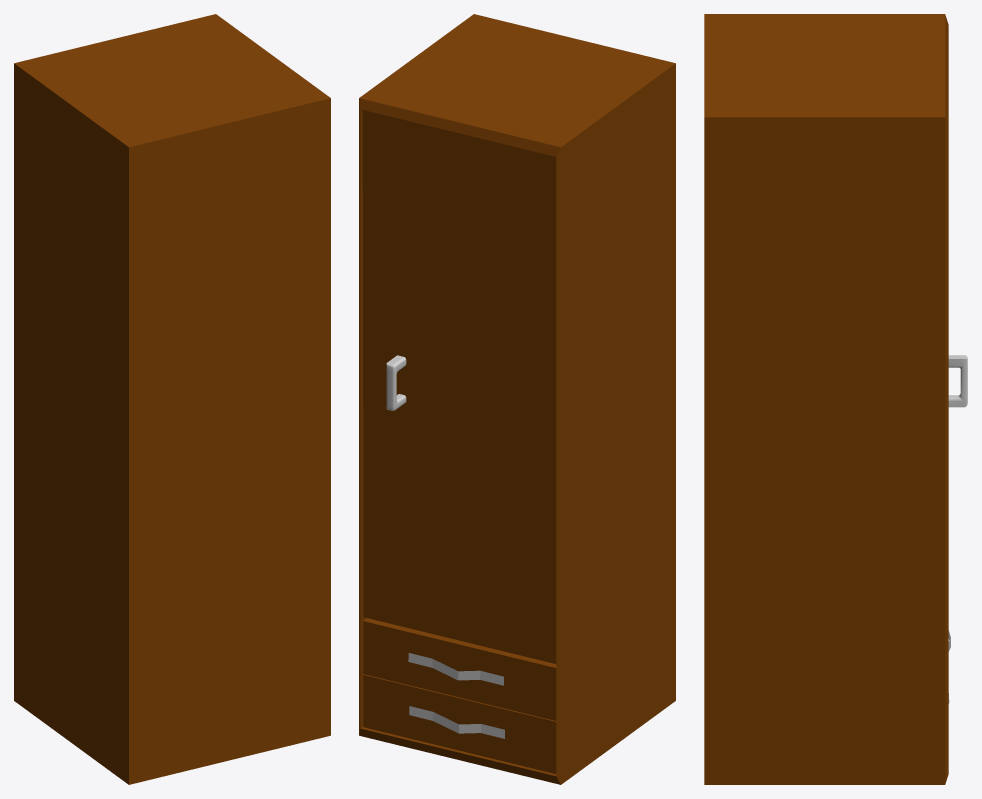
Rendered from Armario.fbx.
3 renders of one model, left to right at view 1: azimuth 30°, elevation 25°; view 2: azimuth 150°, elevation 25°; view 3: azimuth 270°, elevation 25°, orthographic. The views are drawn at different scales.
Visible parts, largest first — view 1: Cubo; view 2: Cubo, Plano.002; view 3: Cubo.
Part boxes in pixels (x1,y1,x2,y2): Cubo: [14, 14, 330, 784]; Cubo: [359, 14, 675, 784]; Plano.002: [364, 618, 556, 667]; Cubo: [704, 14, 967, 784].
Bounding box in the file's own units: 261 × 787 × 281.
